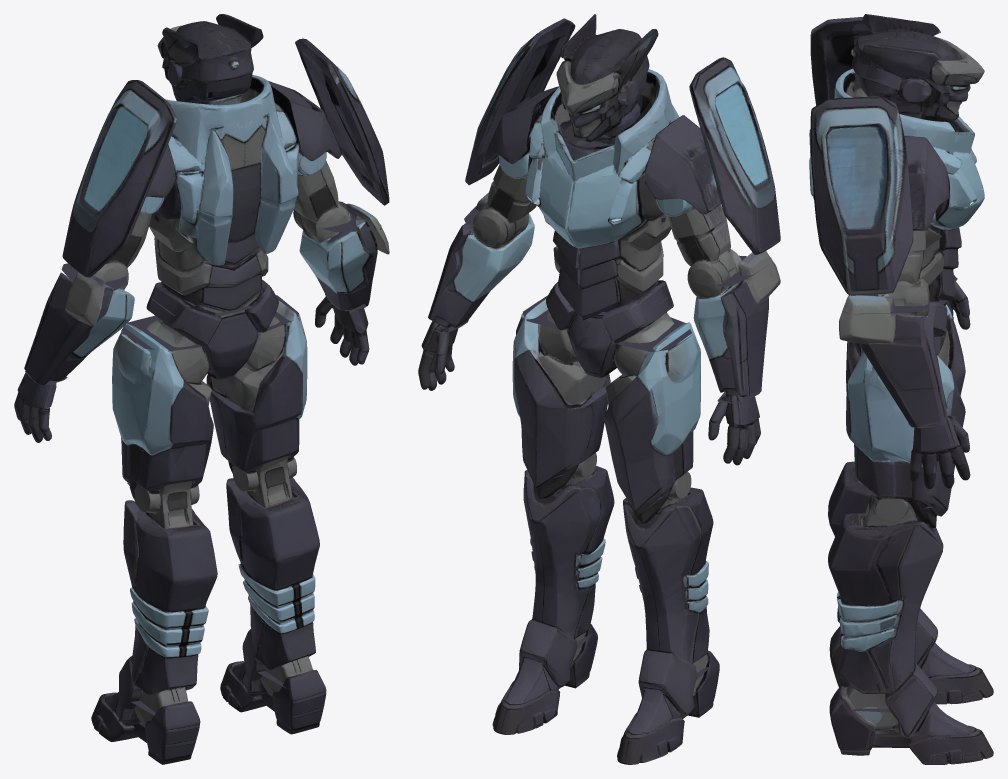
The model's file is Mech3.glb.
The picture shows the model from 3 angles, left to right: view 1: azimuth 30°, elevation 25°; view 2: azimuth 150°, elevation 25°; view 3: azimuth 270°, elevation 25°; orthographic projection. The views are drawn at different scales.
Parts seen in each view (by area): view 1: Torso, Shin_L, Shin_R, Thigh_L, Wing_L, Thigh_R, Head, Forearm_L, Wing_R, Forearm_R, Pelvis, Foot_L (+7 smaller); view 2: Torso, Shin_L, Thigh_L, Shin_R, Thigh_R, Wing_L, Head, Forearm_L, Forearm_R, Wing_R, Pelvis, Foot_L (+7 smaller); view 3: Shin_R, Wing_R, Head, Thigh_R, Torso, Forearm_R, Foot_R, Hand_R, Wing_L, Foot_L, ShoulderPad_R, UpperArm_R (+4 smaller).
Boxes of the visible parts, x1=… form: Torso: x1=149, y1=37, x2=311, y2=322; Shin_L: x1=119, y1=482, x2=217, y2=721; Shin_R: x1=226, y1=465, x2=323, y2=691; Thigh_L: x1=112, y1=315, x2=213, y2=505; Wing_L: x1=62, y1=80, x2=176, y2=277; Thigh_R: x1=206, y1=295, x2=307, y2=482; Head: x1=157, y1=14, x2=263, y2=105; Forearm_L: x1=24, y1=263, x2=134, y2=384; Wing_R: x1=295, y1=38, x2=389, y2=205; Forearm_R: x1=293, y1=201, x2=389, y2=309; Pelvis: x1=146, y1=291, x2=279, y2=397; Foot_L: x1=91, y1=689, x2=200, y2=764; Torso: x1=513, y1=69, x2=679, y2=318; Shin_L: x1=623, y1=481, x2=716, y2=695; Thigh_L: x1=604, y1=317, x2=700, y2=507; Shin_R: x1=519, y1=457, x2=614, y2=666; Thigh_R: x1=512, y1=295, x2=610, y2=481; Wing_L: x1=689, y1=57, x2=780, y2=254; Head: x1=556, y1=14, x2=658, y2=145; Forearm_L: x1=687, y1=255, x2=780, y2=405; Forearm_R: x1=428, y1=206, x2=534, y2=330; Wing_R: x1=465, y1=18, x2=575, y2=185; Pelvis: x1=546, y1=289, x2=673, y2=395; Foot_L: x1=617, y1=660, x2=719, y2=764; Shin_R: x1=828, y1=493, x2=948, y2=718; Wing_R: x1=810, y1=96, x2=913, y2=295; Head: x1=851, y1=14, x2=984, y2=122; Thigh_R: x1=846, y1=336, x2=965, y2=512; Torso: x1=809, y1=68, x2=984, y2=316; Forearm_R: x1=839, y1=294, x2=951, y2=427; Foot_R: x1=829, y1=695, x2=993, y2=764; Hand_R: x1=908, y1=415, x2=970, y2=489; Wing_L: x1=810, y1=17, x2=872, y2=105; Foot_L: x1=829, y1=636, x2=993, y2=704; ShoulderPad_R: x1=904, y1=136, x2=949, y2=230; UpperArm_R: x1=842, y1=212, x2=935, y2=316.
Bounding box in the file's own units: 9.95 × 20 × 4.81.
1 material, 1 textured.
